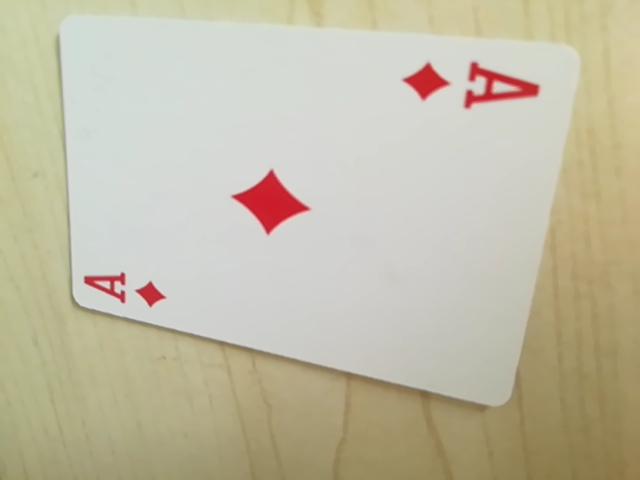fk a: (402, 55, 542, 117), (77, 261, 177, 315)
